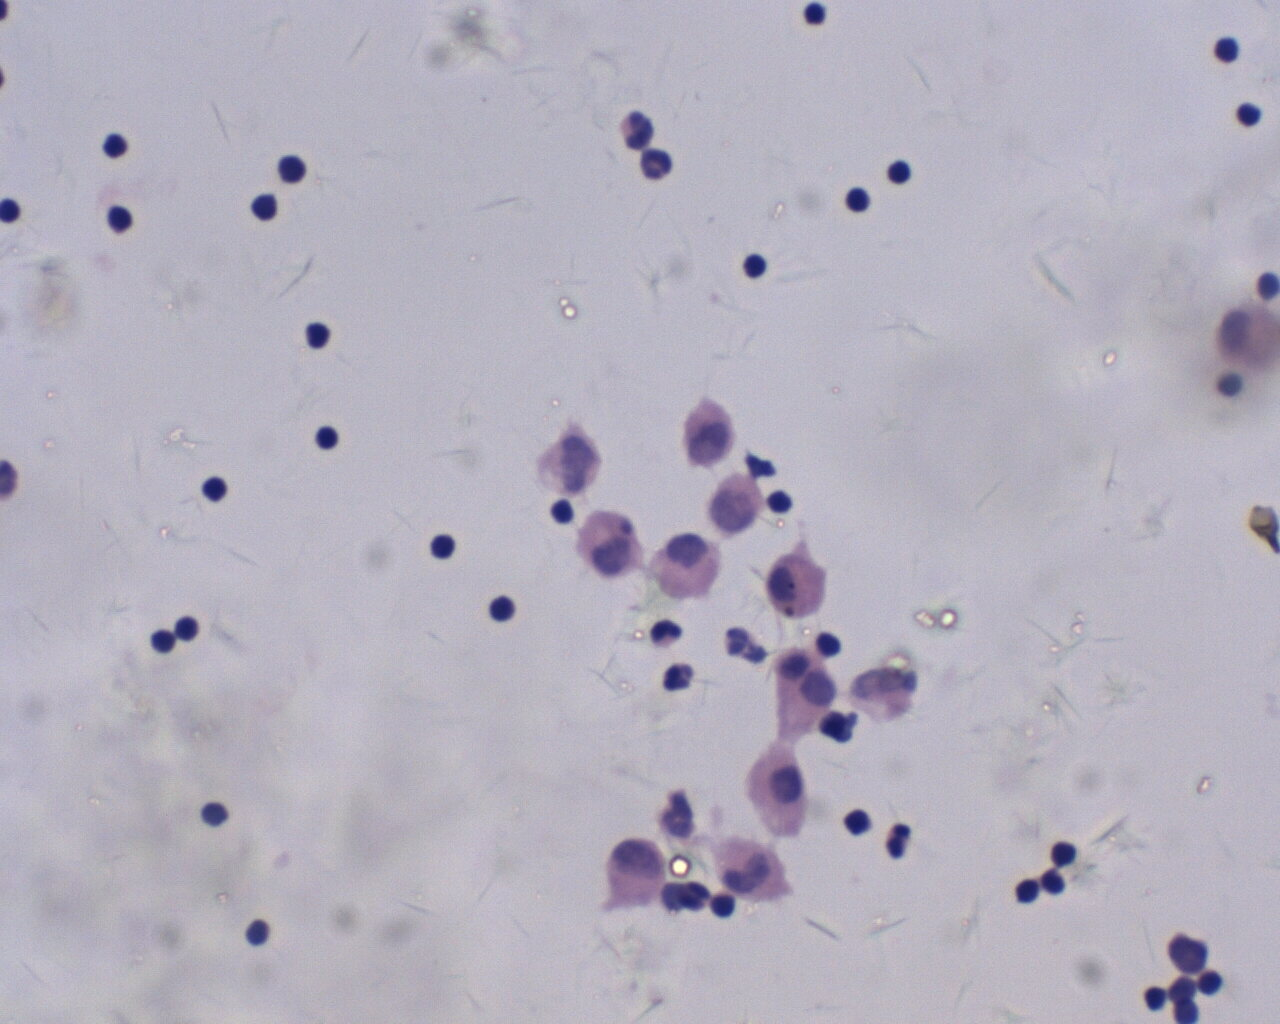lymph: (240, 915, 278, 953), (246, 188, 281, 226), (276, 149, 311, 186), (196, 796, 233, 832), (1232, 98, 1270, 130), (1212, 32, 1246, 66), (172, 612, 207, 645), (840, 186, 872, 216), (842, 807, 872, 839), (145, 621, 174, 654), (199, 472, 229, 503), (304, 318, 329, 353), (98, 132, 132, 158), (485, 595, 519, 620), (741, 248, 767, 279), (796, 1, 829, 26), (103, 206, 134, 232), (430, 531, 458, 558), (313, 423, 340, 451), (886, 158, 912, 184)
meso: (744, 743, 814, 839), (572, 507, 646, 576), (601, 839, 666, 912), (655, 532, 720, 603), (764, 550, 829, 620)
neutro: (616, 104, 654, 149), (652, 618, 683, 653), (638, 148, 673, 178)
